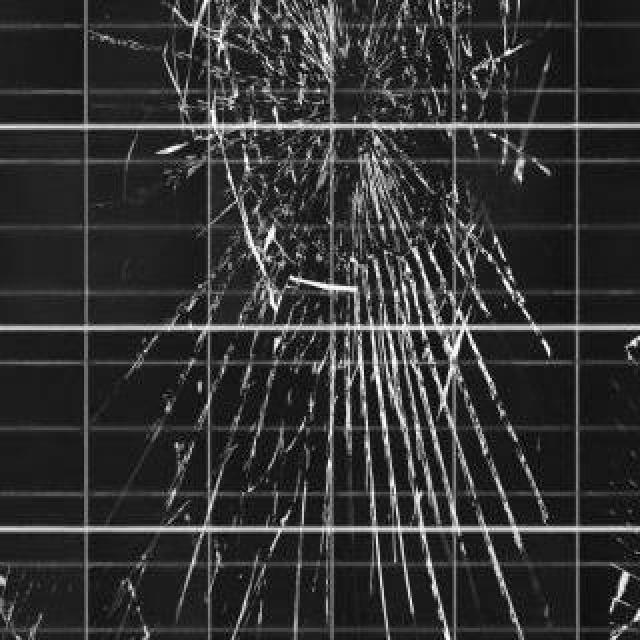Physical-damage: (146, 4, 532, 640)
